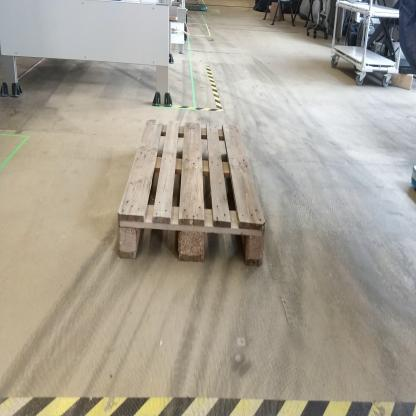BoxFace: (111, 113, 270, 272)
